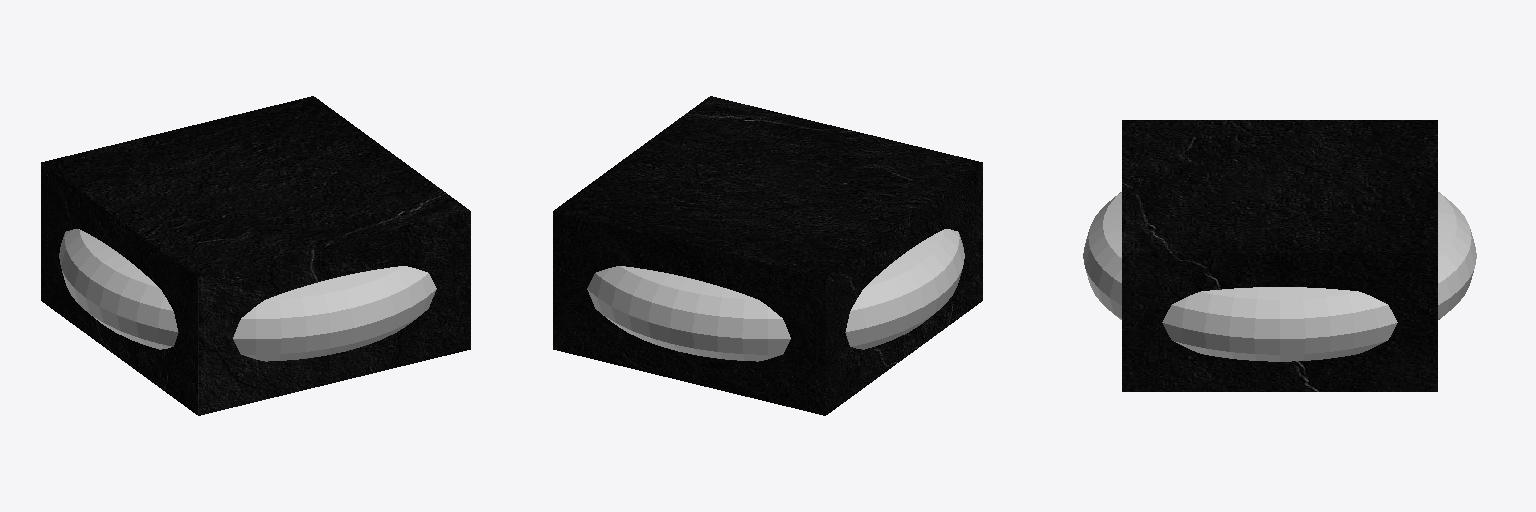
The picture shows the model from 3 angles: view 1: azimuth 30°, elevation 25°; view 2: azimuth 150°, elevation 25°; view 3: azimuth 270°, elevation 25°; orthographic projection.
Parts seen in each view (by area): view 1: Cube_Cube.001, Torus; view 2: Cube_Cube.001, Torus; view 3: Cube_Cube.001, Torus.
Part boxes in pixels (left/top/right/bottom): Cube_Cube.001: left=41, top=96, right=470, bottom=415; Torus: left=59, top=229, right=436, bottom=361; Cube_Cube.001: left=553, top=96, right=982, bottom=415; Torus: left=587, top=229, right=964, bottom=361; Cube_Cube.001: left=1122, top=120, right=1437, bottom=391; Torus: left=1083, top=192, right=1476, bottom=361.
Bounding box in the file's own units: 2.5 × 0.9678 × 2.5.
Materials: 2 (1 with a texture image).